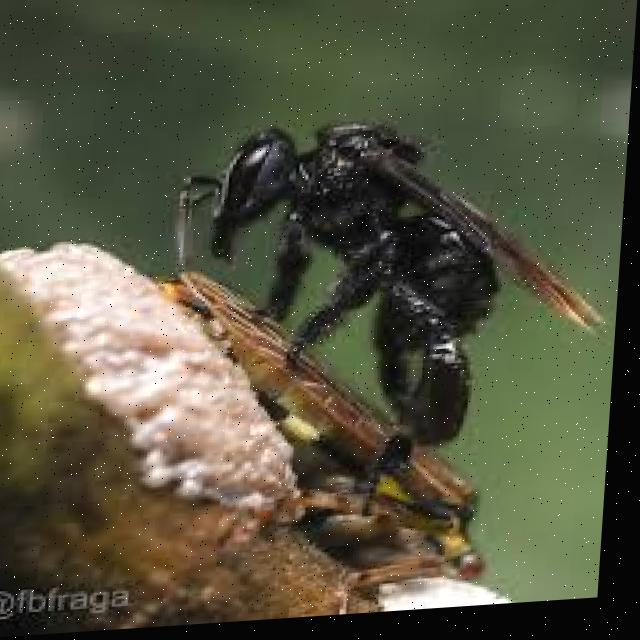Meliponula: (159, 99, 573, 480)
